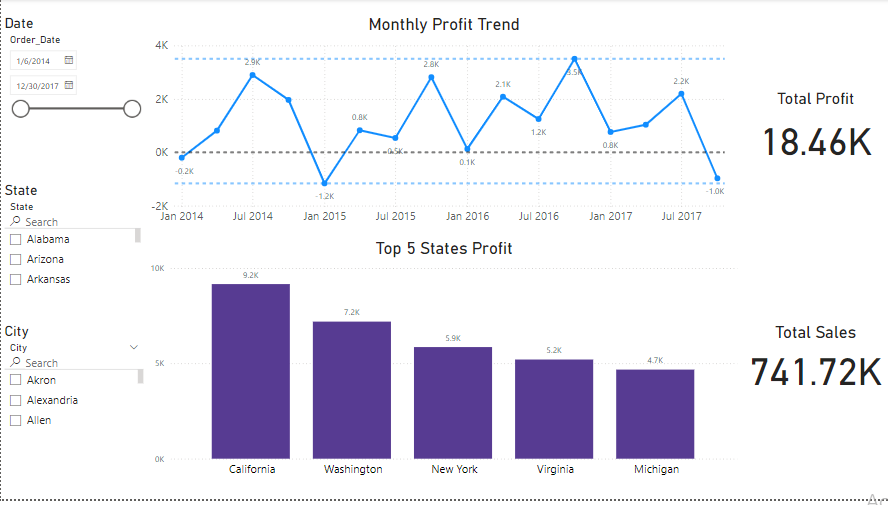

What the dashboard file says about the page in this screenshot:
{"tool":"powerbi","page":{"name":"Profit Visuals","canvas":[1280,720],"ordinal":4},"visuals":[{"type":"lineChart","title":"Monthly Profit Trend","fields":{"Category":["sales_forecasting_cleaned.Order_Date.Variation.Date Hierarchy.Year","sales_forecasting_cleaned.Order_Date.Variation.Date Hierarchy.Quarter","sales_forecasting_cleaned.Order_Date.Variation.Date Hierarchy.Month","sales_forecasting_cleaned.Order_Date.Variation.Date Hierarchy.Day"],"Y":["Sum(sales_forecasting_cleaned.Profit)"]},"box":[210.2,23,855.4,309.6],"z":0},{"type":"card","title":"Total Profit","fields":{"Values":["Sum(sales_forecasting_cleaned.Profit)"]},"box":[1065,129.3,215,110.9],"z":1000},{"type":"slicer","title":"State","fields":{"Values":["sales_forecasting_cleaned.State"]},"box":[0,263.5,205.9,164.2],"z":2000},{"type":"slicer","title":"City","fields":{"Values":["sales_forecasting_cleaned.City"]},"box":[0,466.6,210.2,161.3],"z":3000},{"type":"slicer","title":"Date","fields":{"Values":["sales_forecasting_cleaned.Order_Date"]},"box":[0,23,210.2,185.8],"z":4000},{"type":"card","title":"Total Sales","fields":{"Values":["Sum(sales_forecasting_cleaned.Total_Sales)"]},"box":[1065.6,466.6,214.6,99.4],"z":5000},{"type":"columnChart","title":"Top 5 States Profit","fields":{"Category":["sales_forecasting_cleaned.State"],"Y":["Sum(sales_forecasting_cleaned.Profit)"]},"box":[210.2,345.6,855.4,351.4],"z":6000}]}

Visuals, with their boxes in screenshot pixels (x1, y1, x2, y2), scaled from the page's 1280x720 canvas onto the 888x505 screenshot:
"Monthly Profit Trend" lineChart: [146,16,739,233]
"Total Profit" card: [739,91,887,168]
"State" slicer: [0,185,143,300]
"City" slicer: [0,327,146,440]
"Date" slicer: [0,16,146,146]
"Total Sales" card: [739,327,887,397]
"Top 5 States Profit" columnChart: [146,242,739,489]
